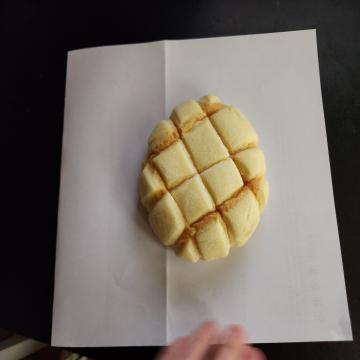melon_bread: (137, 95, 273, 268)
